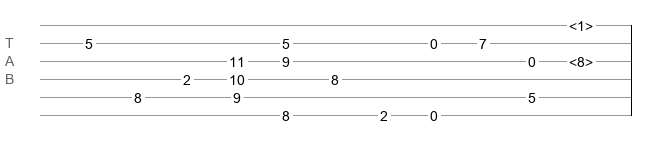0: (430, 36, 438, 46), (430, 108, 438, 118), (528, 54, 536, 64)
10: (229, 72, 245, 82)
11: (229, 54, 245, 64)
2: (183, 72, 191, 82), (380, 108, 388, 118)
5: (85, 36, 93, 46), (282, 36, 290, 46), (528, 90, 536, 100)
7: (479, 36, 487, 46)
8: (134, 90, 142, 100), (282, 108, 290, 118), (331, 72, 339, 82)
9: (233, 90, 241, 100), (282, 54, 290, 64)
harmonic: (569, 18, 593, 28), (569, 54, 593, 64)
